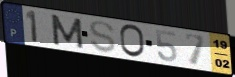1: (25, 9, 40, 45)
5: (154, 28, 179, 63)
7: (183, 33, 207, 67)
M: (49, 13, 86, 51)
O: (119, 23, 147, 59)
S: (88, 20, 118, 54)
